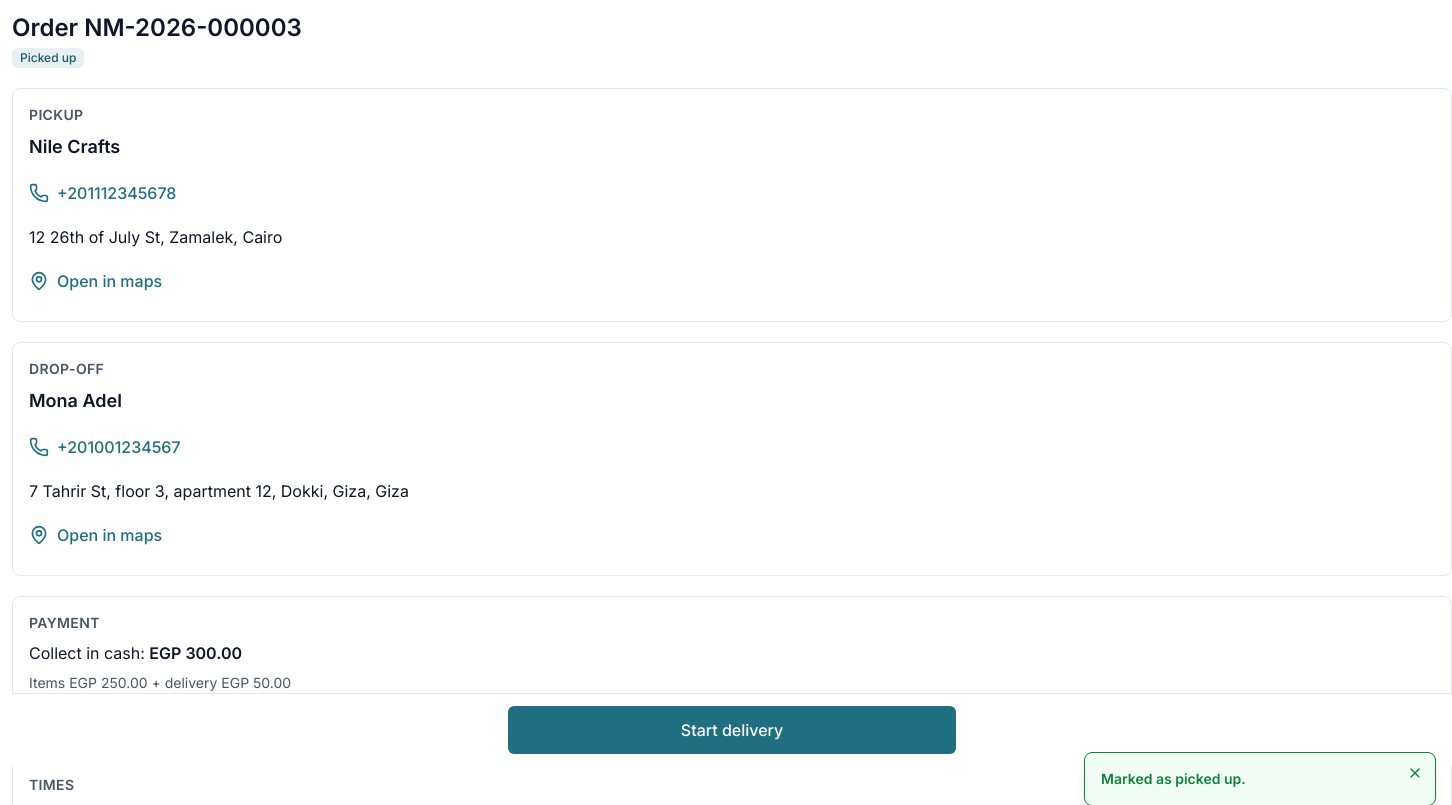
Test: shipment (spec 04 AG-05) › picked up → "Start delivery" → out for delivery shows Delivered and Delivery failed
This screenshot has width=1452, height=805.
Click the button "Start delivery". click: (732, 730)
box: [508,706,956,754]
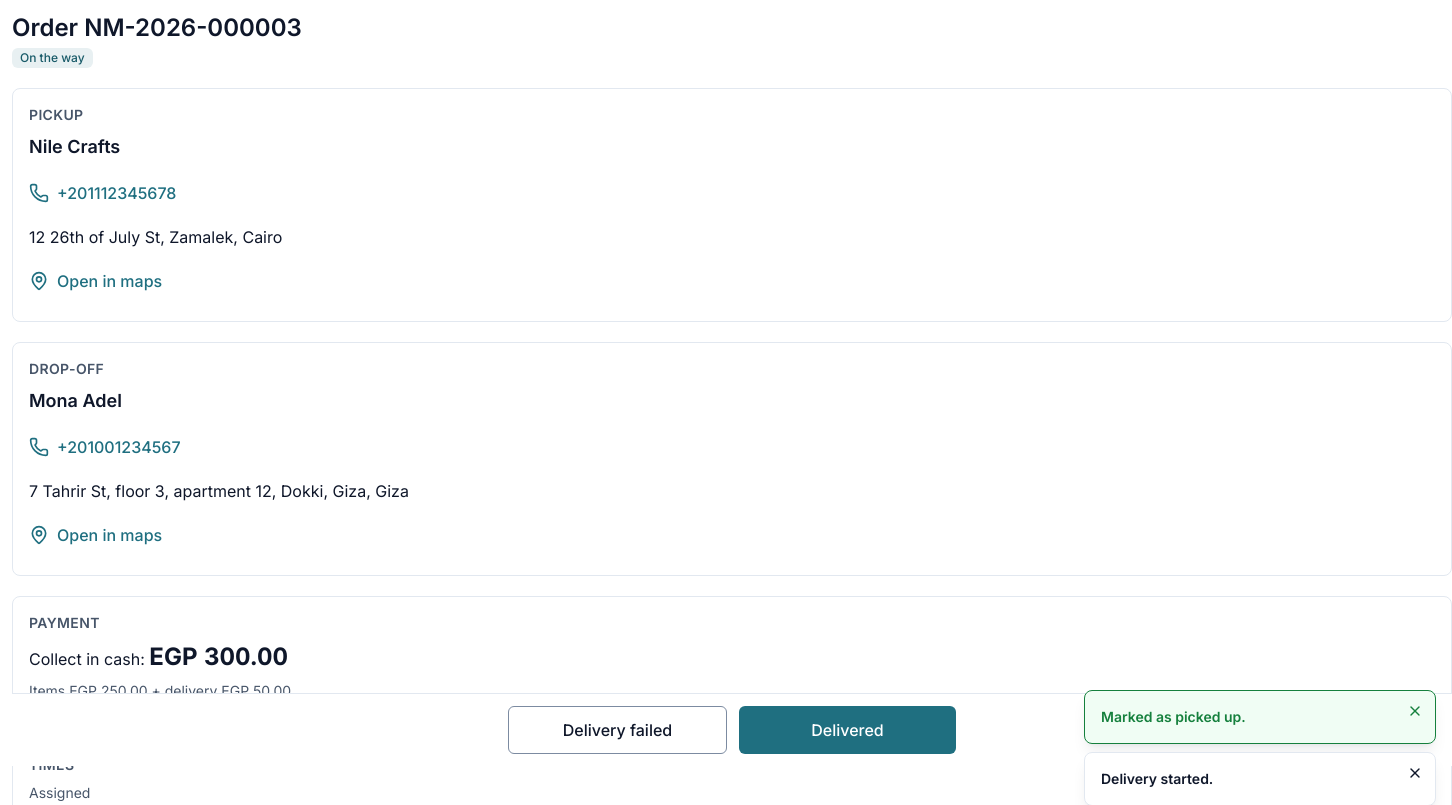
Expected: the text "Delivery started." is shown, [1101,770,1213,787]
Expected: the button "Delivered" is shown, [739,706,956,754]
Expected: the button "Delivery failed" is shown, [508,706,727,754]
